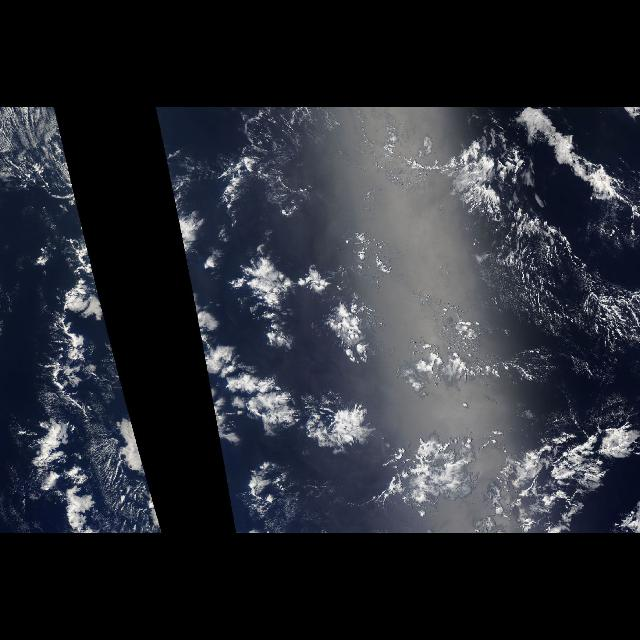Fish: (380, 122, 640, 336)
Flower: (170, 153, 622, 519)
